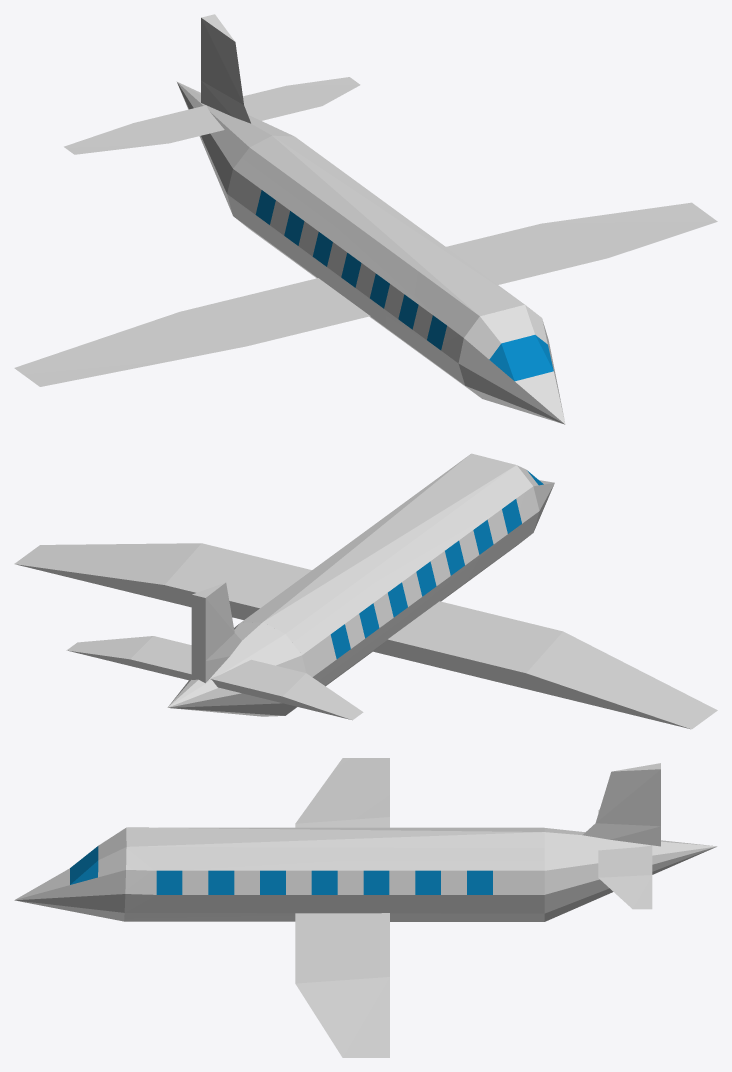
3 renders of one model, top to bottom at view 1: azimuth 30°, elevation 25°; view 2: azimuth 150°, elevation 25°; view 3: azimuth 270°, elevation 25°, orthographic. The views are drawn at different scales.
Parts seen in each view (by area): view 1: node_MeshObject-1186554368-PolyPaper21; view 2: node_MeshObject-1186554368-PolyPaper21; view 3: node_MeshObject-1186554368-PolyPaper21.
Boxes of the visible parts, x1=… form: node_MeshObject-1186554368-PolyPaper21: x1=14, y1=14, x2=717, y2=424; node_MeshObject-1186554368-PolyPaper21: x1=14, y1=453, x2=717, y2=729; node_MeshObject-1186554368-PolyPaper21: x1=14, y1=758, x2=717, y2=1057.
Size of the model in its own units: 2.19 by 0.5172 by 2.18.
